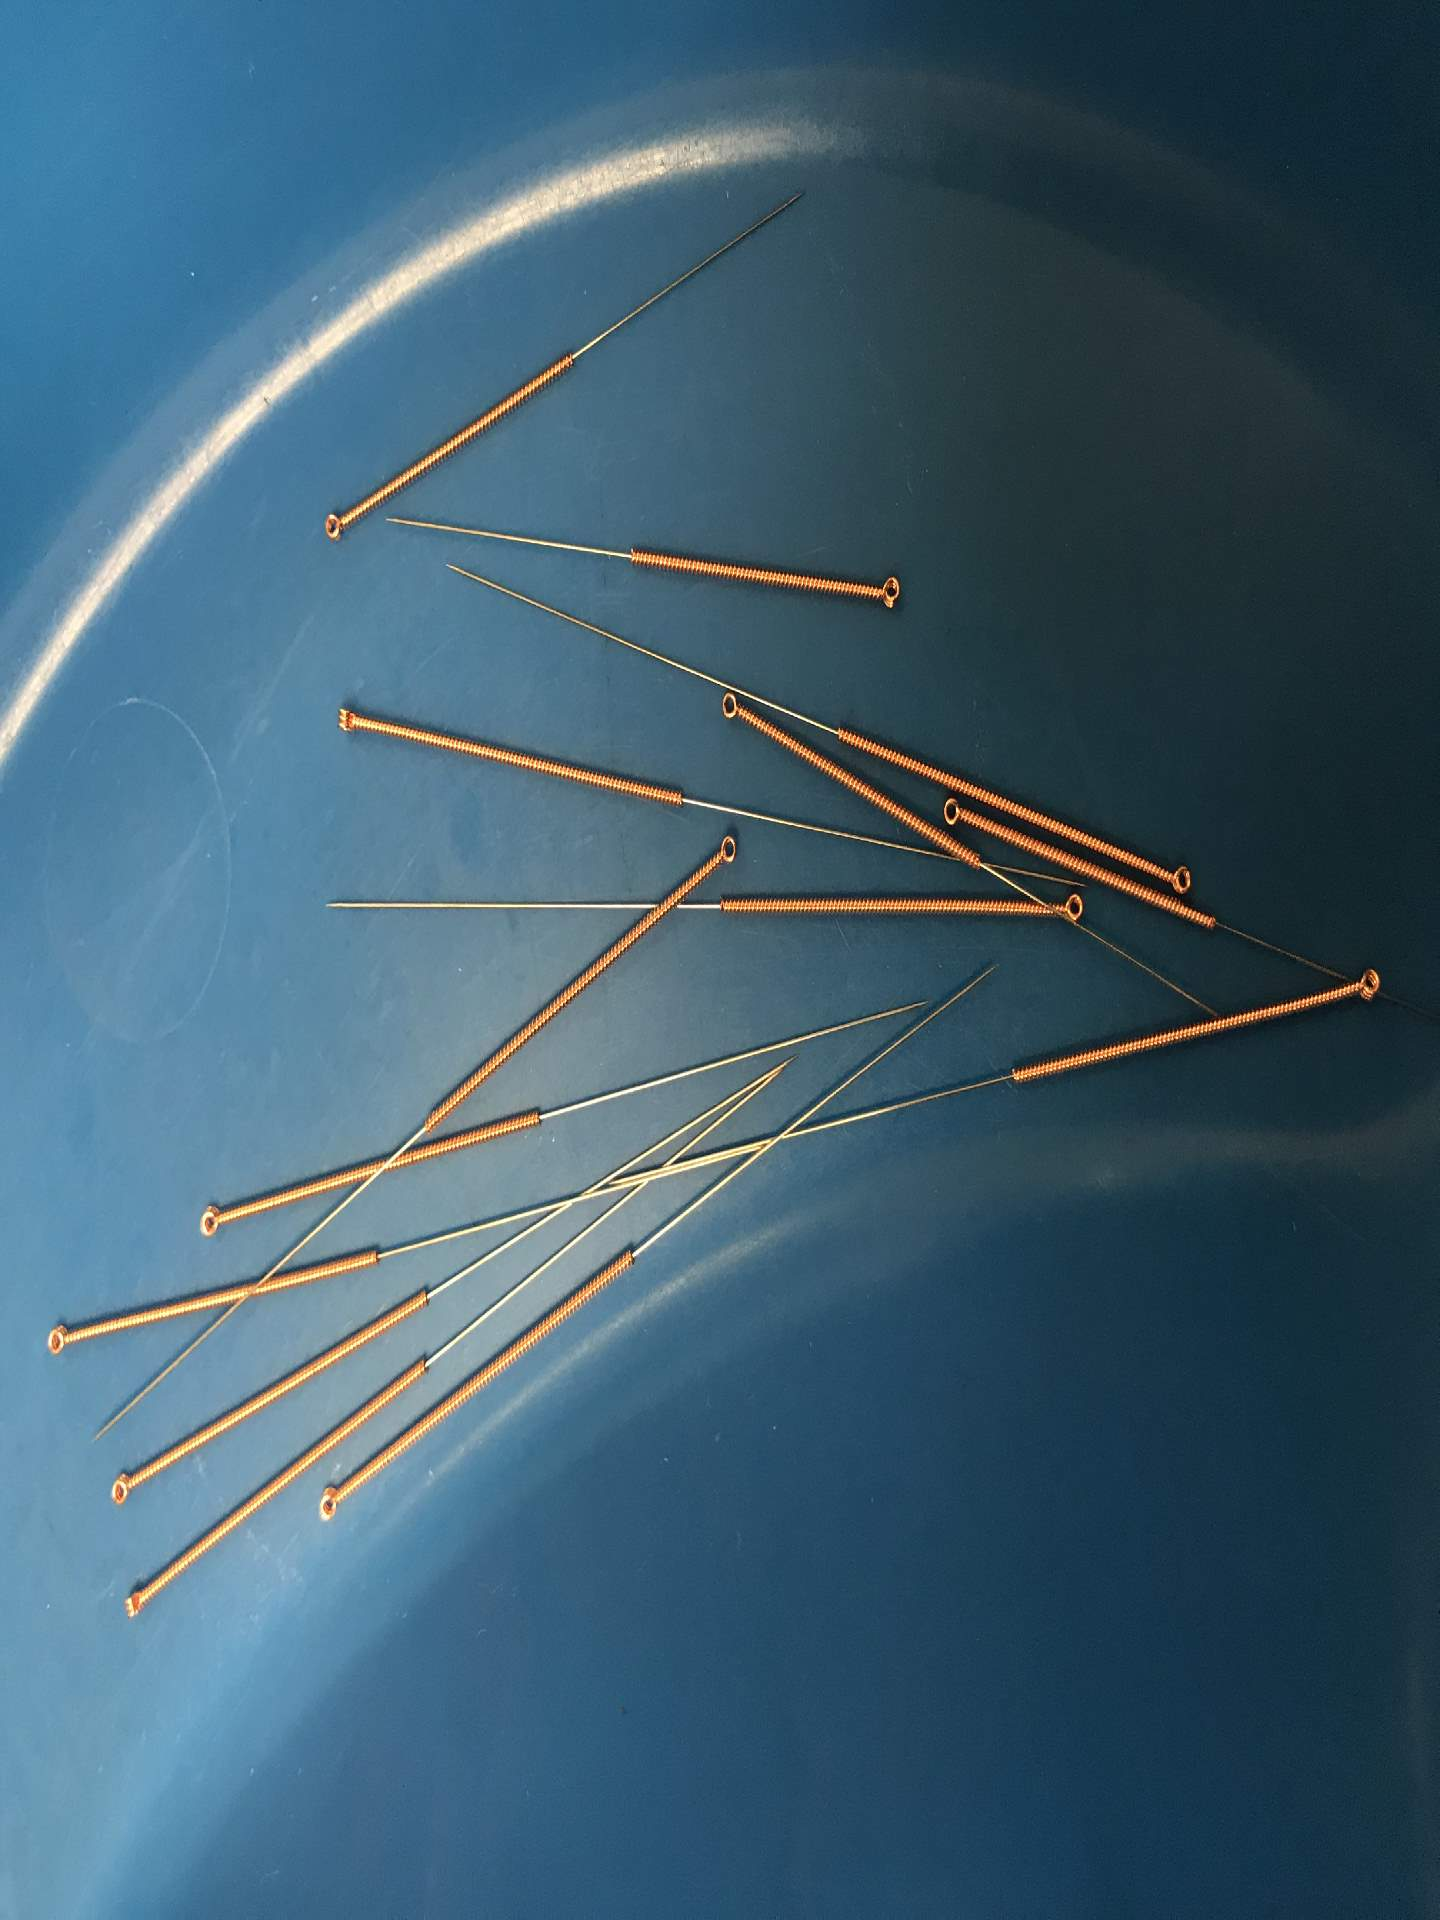needle: (310, 499, 355, 550), (310, 1482, 349, 1530), (191, 1197, 231, 1243), (870, 567, 906, 617), (38, 1315, 76, 1362), (1346, 962, 1386, 1005), (1050, 887, 1092, 927), (104, 1466, 141, 1512), (113, 1581, 150, 1627), (327, 697, 363, 741), (712, 686, 747, 727), (708, 828, 741, 871), (935, 792, 970, 831), (1163, 856, 1196, 897)
